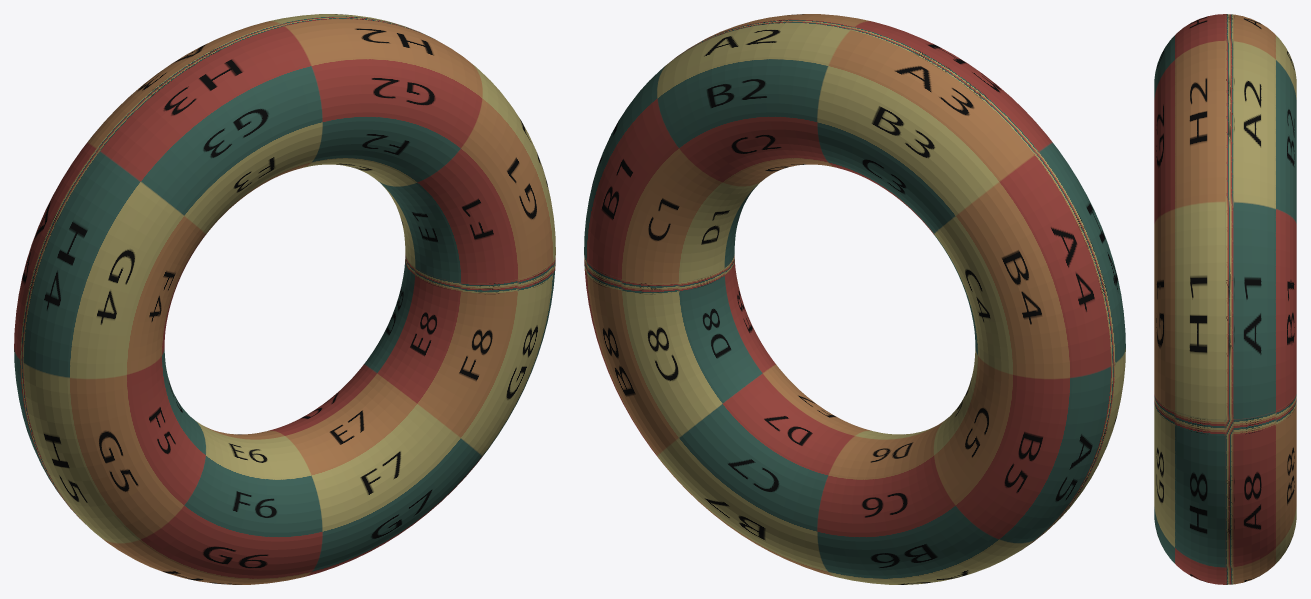
File: texture_torus_R9_r9.glb
3 views of the same model, side by side, from view 1: azimuth 30°, elevation 25°; view 2: azimuth 150°, elevation 25°; view 3: azimuth 270°, elevation 25° (orthographic). The views are drawn at different scales.
Visible parts, largest first — view 1: world; view 2: world; view 3: world.
Boxes of the visible parts, x1,y1,x2,y2 form: world: (14, 14, 555, 584); world: (584, 14, 1125, 584); world: (1154, 14, 1296, 584).
Bounding box in the file's own units: 40 × 40 × 9.98.
1 material, 1 textured.
